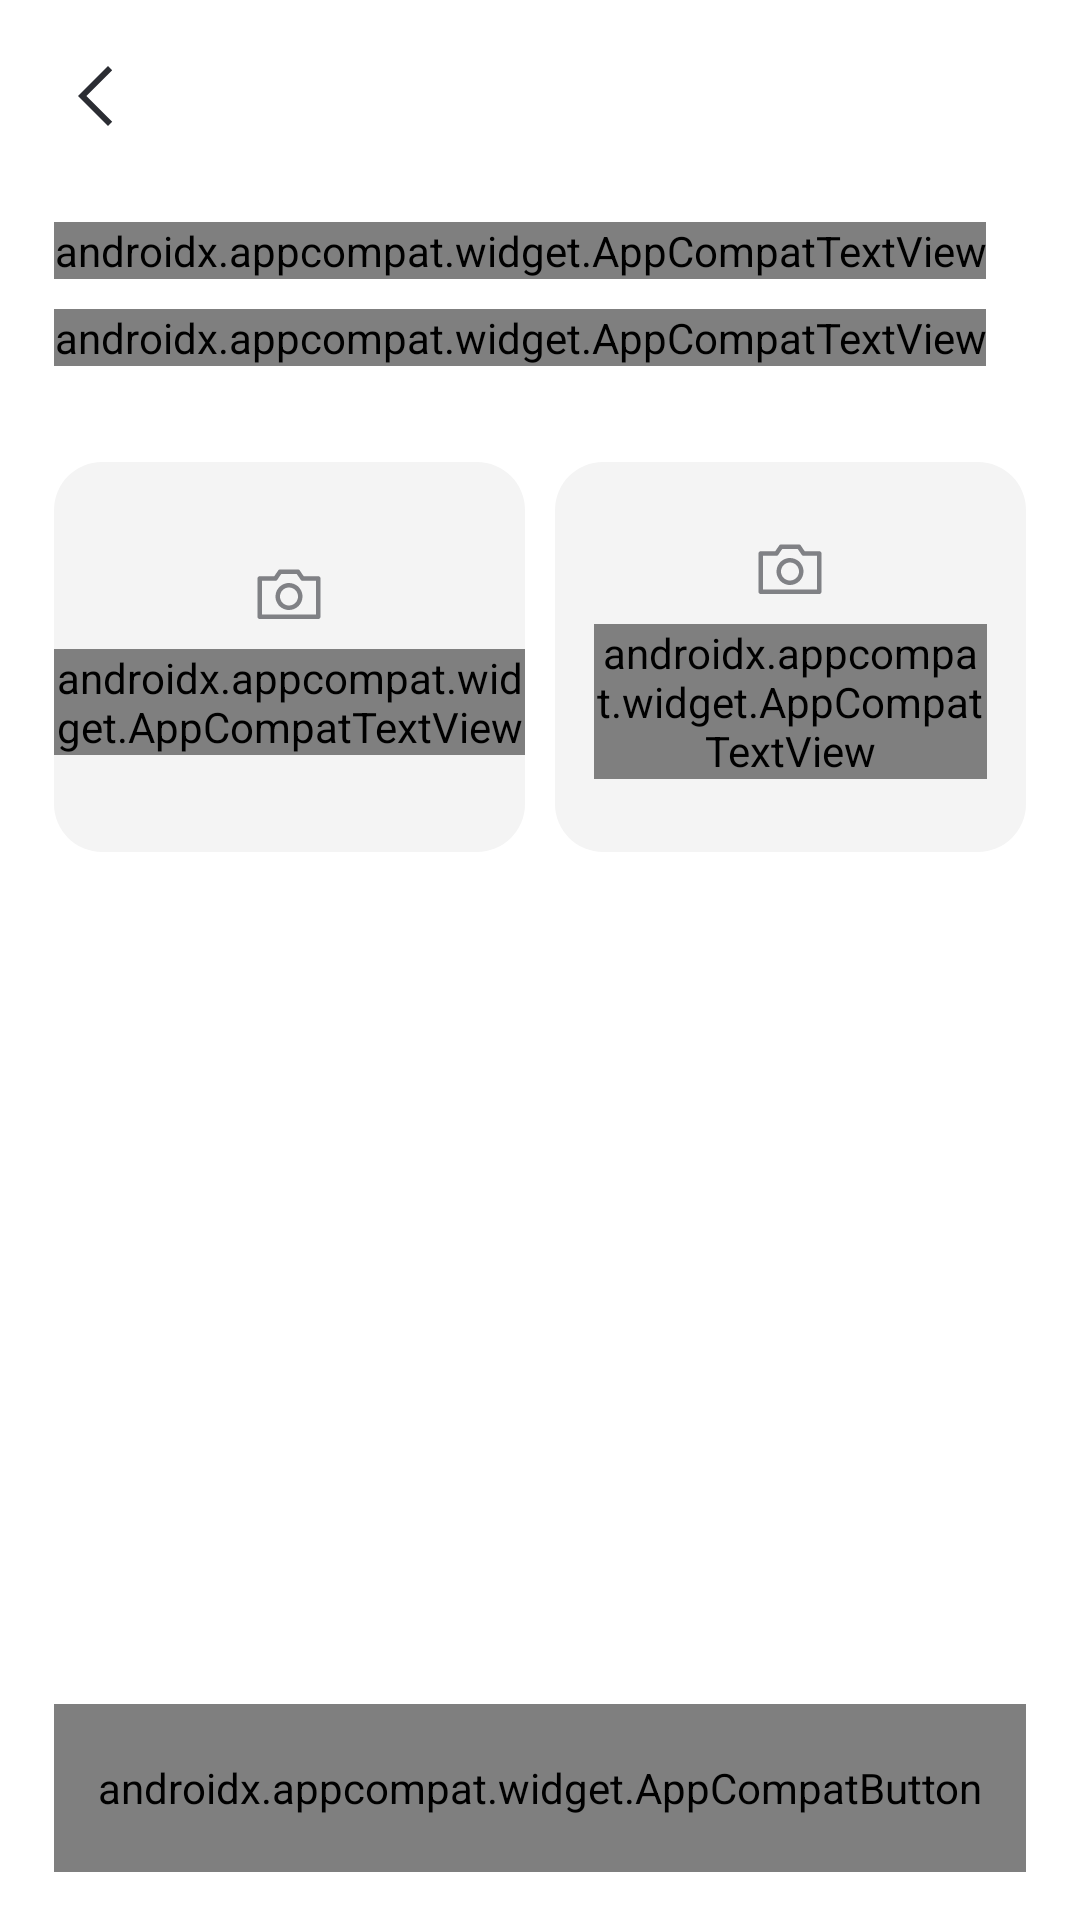

Where to tap for icons on this 1080px x 1920px app screen, as (x=x, y=y):
arrow left: (x=95, y=96)
camera: (x=790, y=569), (x=289, y=594)
